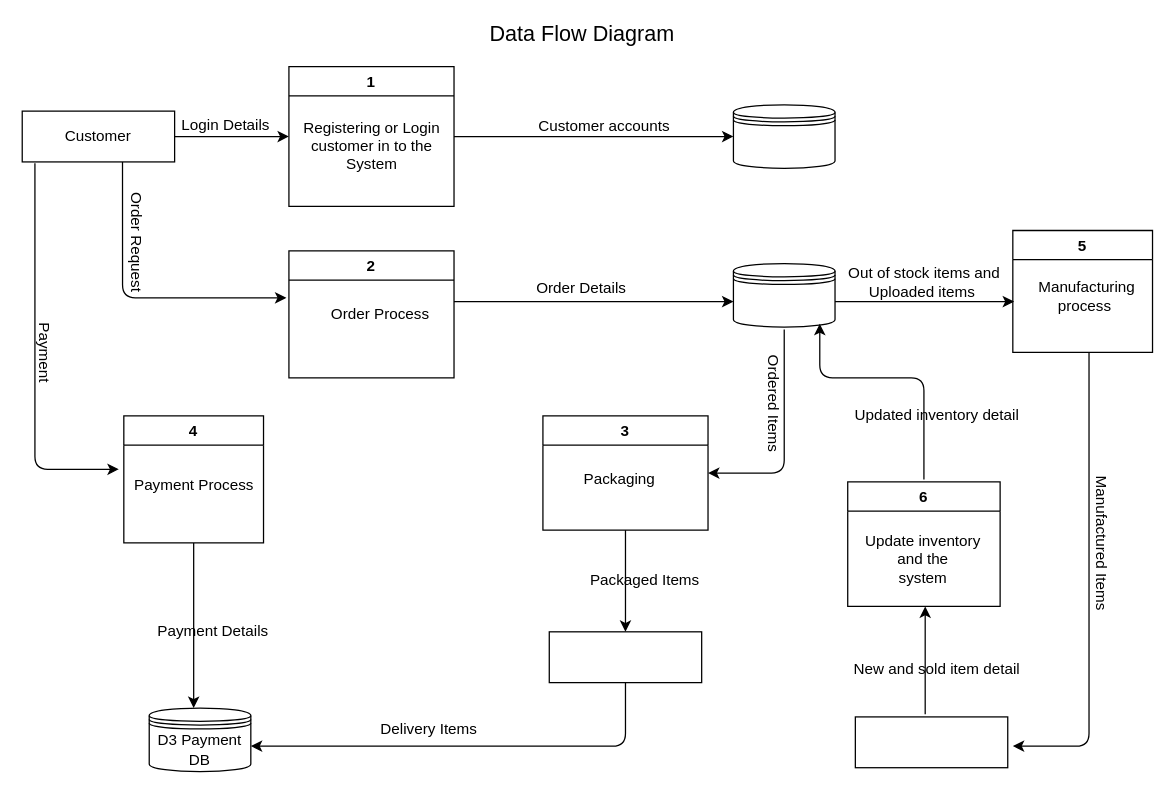
Image size: 1175x794. Some labels were removed from this diagram. The shapes that lost their labels are listed below. From the top down, each one's centre as x and y in pixels, then its label:
At (783,136): "D1 Customer DB".
At (783,294): "D2 Inventory DB".
At (625,657): "Delivery Person".
At (931,742): "System".
